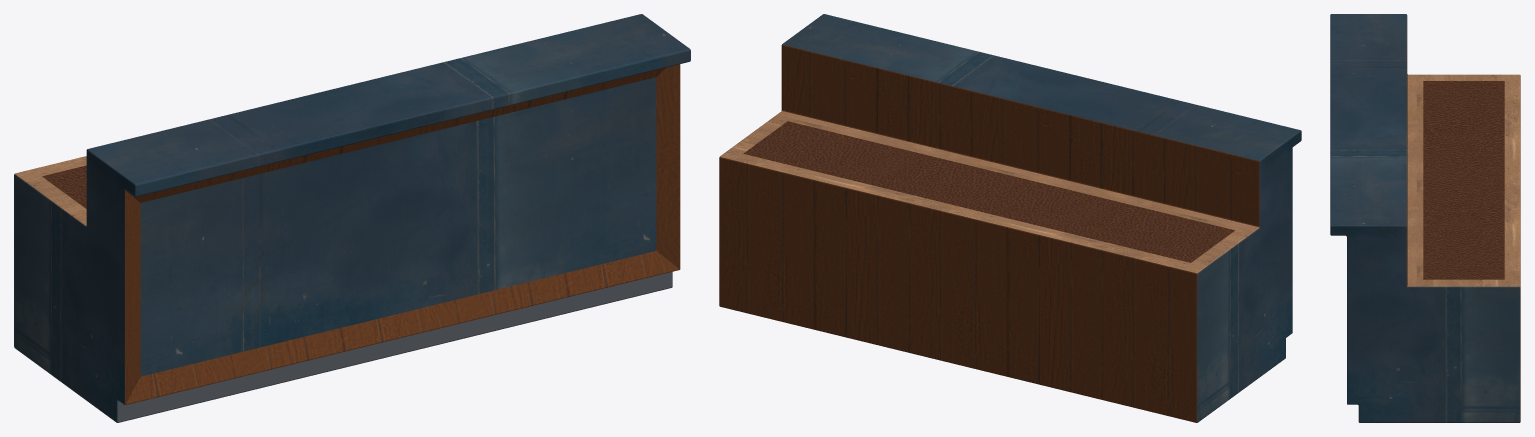
Rendered from reception_desk.glb.
3 views of the same model, side by side, from view 1: azimuth 30°, elevation 25°; view 2: azimuth 150°, elevation 25°; view 3: azimuth 270°, elevation 25° (orthographic). The views are drawn at different scales.
Visible parts, largest first — view 1: ReceptionDesk; view 2: ReceptionDesk; view 3: ReceptionDesk.
Boxes of the visible parts, x1,y1,x2,y2 form: ReceptionDesk: (14, 14, 690, 422); ReceptionDesk: (719, 14, 1301, 422); ReceptionDesk: (1330, 14, 1520, 422).
Size of the model in its own units: 2.98 by 1.29 by 1.13.
Materials: 5 (4 with a texture image).
